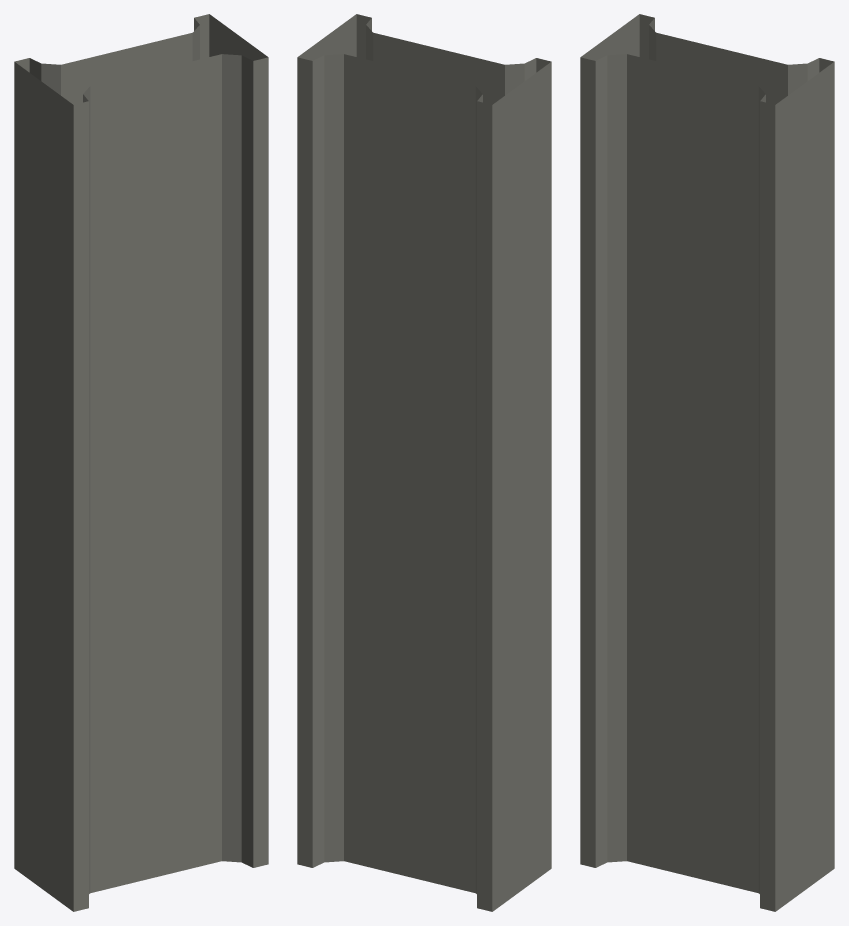
The model's file is metal_rod_short_01.fbx.
3 views of the same model, side by side, from view 1: azimuth 30°, elevation 25°; view 2: azimuth 150°, elevation 25°; view 3: azimuth 330°, elevation 25° (orthographic).
Visible parts, largest first — view 1: metal_rod_short_01; view 2: metal_rod_short_01; view 3: metal_rod_short_01.
Boxes of the visible parts, <box> form: metal_rod_short_01: <box>14,14,268,911</box>; metal_rod_short_01: <box>297,14,551,911</box>; metal_rod_short_01: <box>580,14,834,911</box>.
Size of the model in its own units: 21.05 by 83.21 by 11.05.
